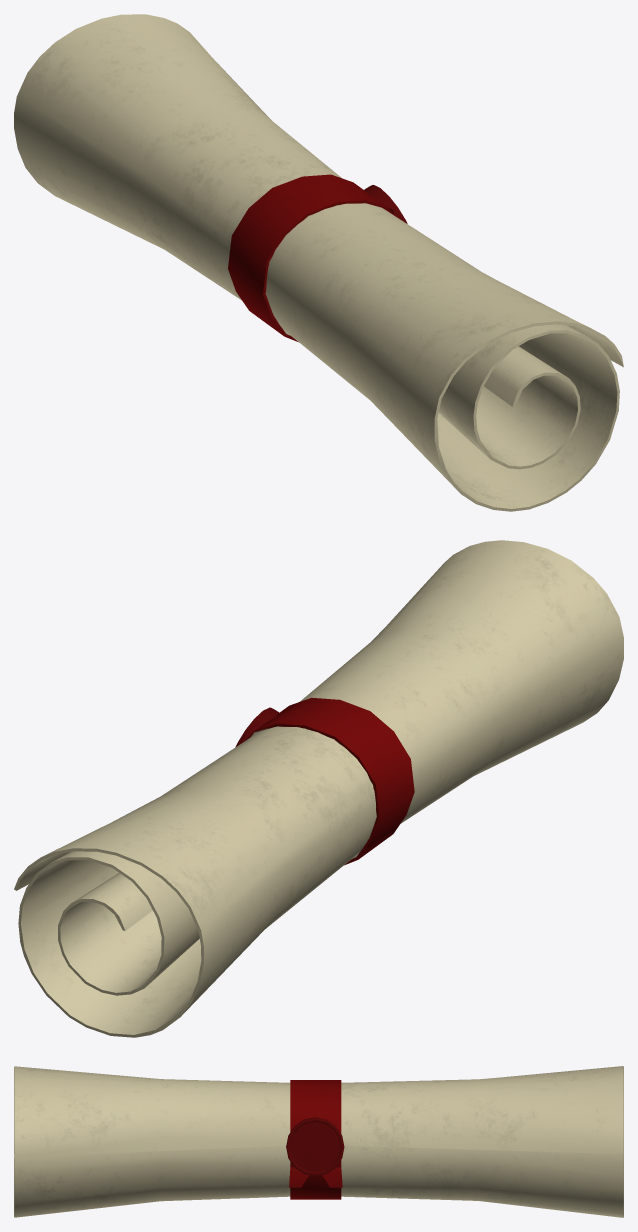
Rendered from Scroll.fbx.
3 renders of one model, top to bottom at view 1: azimuth 30°, elevation 25°; view 2: azimuth 150°, elevation 25°; view 3: azimuth 270°, elevation 25°, orthographic. The views are drawn at different scales.
Parts seen in each view (by area): view 1: Scroll; view 2: Scroll; view 3: Scroll.
Part boxes in pixels (box(x1,y1,x2,y2)): Scroll: box(14, 14, 623, 511); Scroll: box(14, 540, 623, 1037); Scroll: box(14, 1066, 623, 1217).
Size of the model in its own units: 5.54 by 5.15 by 21.23.
1 material, 1 textured.
